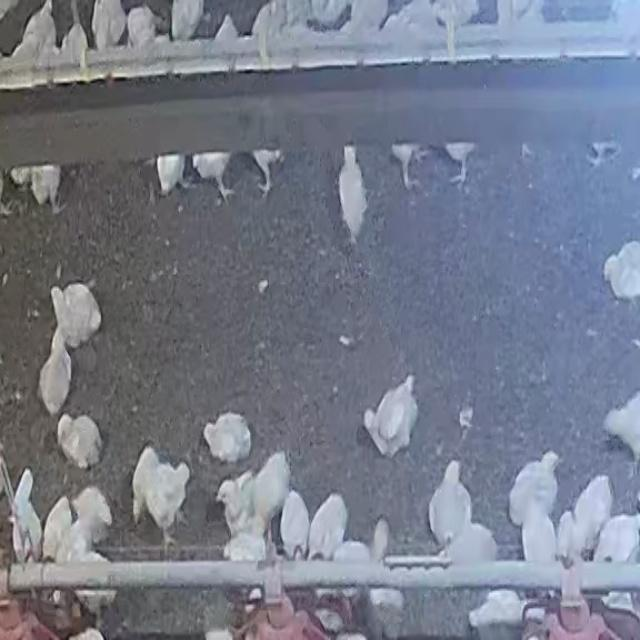chicken: (361, 372, 421, 460), (508, 446, 565, 526), (50, 280, 111, 351), (429, 461, 472, 551), (34, 326, 76, 415), (337, 145, 370, 245), (202, 409, 256, 466), (307, 492, 348, 560), (56, 414, 103, 470), (280, 489, 312, 560)
